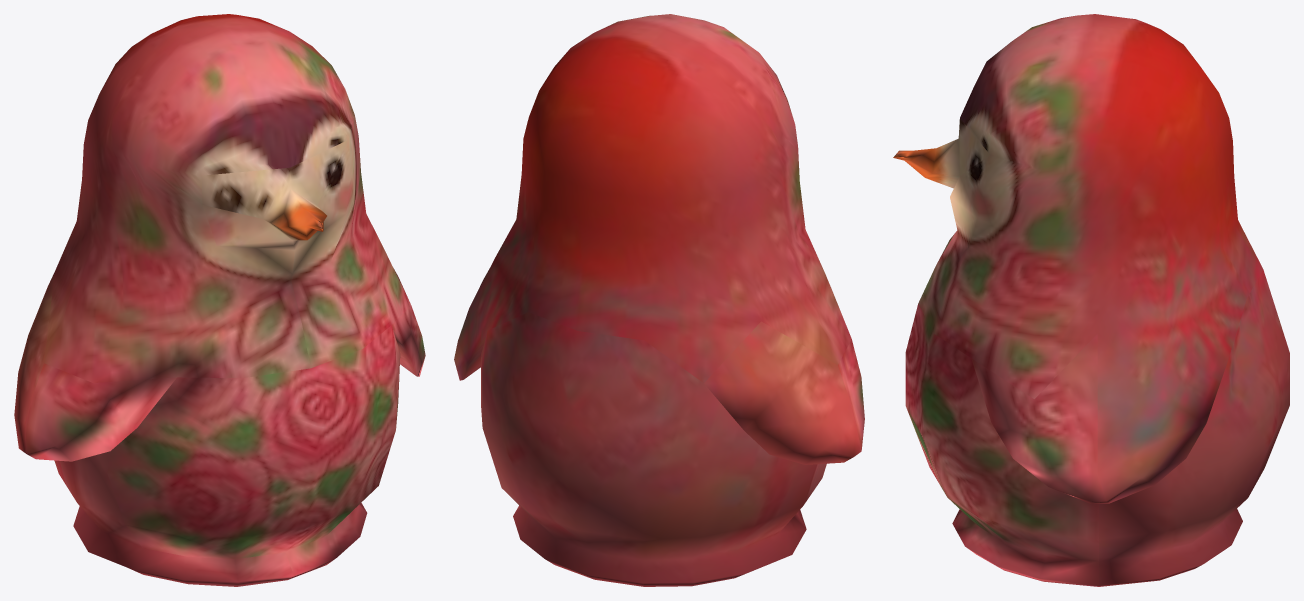
The model's file is penguin-06-21-rose-garden-penguin-doll.gltf.
3 renders of one model, left to right at view 1: azimuth 30°, elevation 25°; view 2: azimuth 150°, elevation 25°; view 3: azimuth 270°, elevation 25°, orthographic.
Visible parts, largest first — view 1: penguin-06-21-rose-garden-penguin-doll; view 2: penguin-06-21-rose-garden-penguin-doll; view 3: penguin-06-21-rose-garden-penguin-doll.
Boxes of the visible parts, bbox=[...] form: penguin-06-21-rose-garden-penguin-doll: bbox=[14, 14, 425, 586]; penguin-06-21-rose-garden-penguin-doll: bbox=[454, 14, 864, 586]; penguin-06-21-rose-garden-penguin-doll: bbox=[893, 14, 1289, 586].
Size of the model in its own units: 0.2 by 0.2503 by 0.1734.
1 material, 1 textured.
